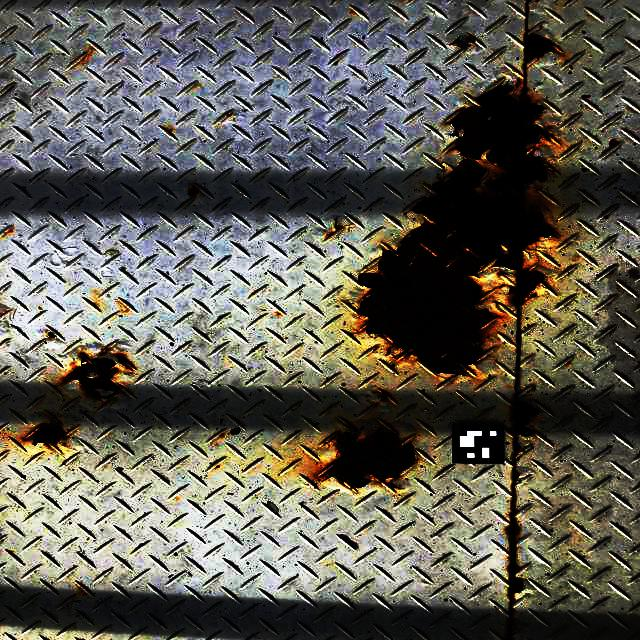Corrosion: (357, 84, 560, 375), (315, 423, 416, 493), (59, 350, 137, 401), (511, 400, 539, 491), (26, 422, 71, 453), (507, 508, 523, 593), (526, 34, 555, 63), (187, 185, 201, 196), (98, 347, 113, 357), (381, 392, 392, 401), (48, 331, 58, 338), (163, 127, 173, 134)
